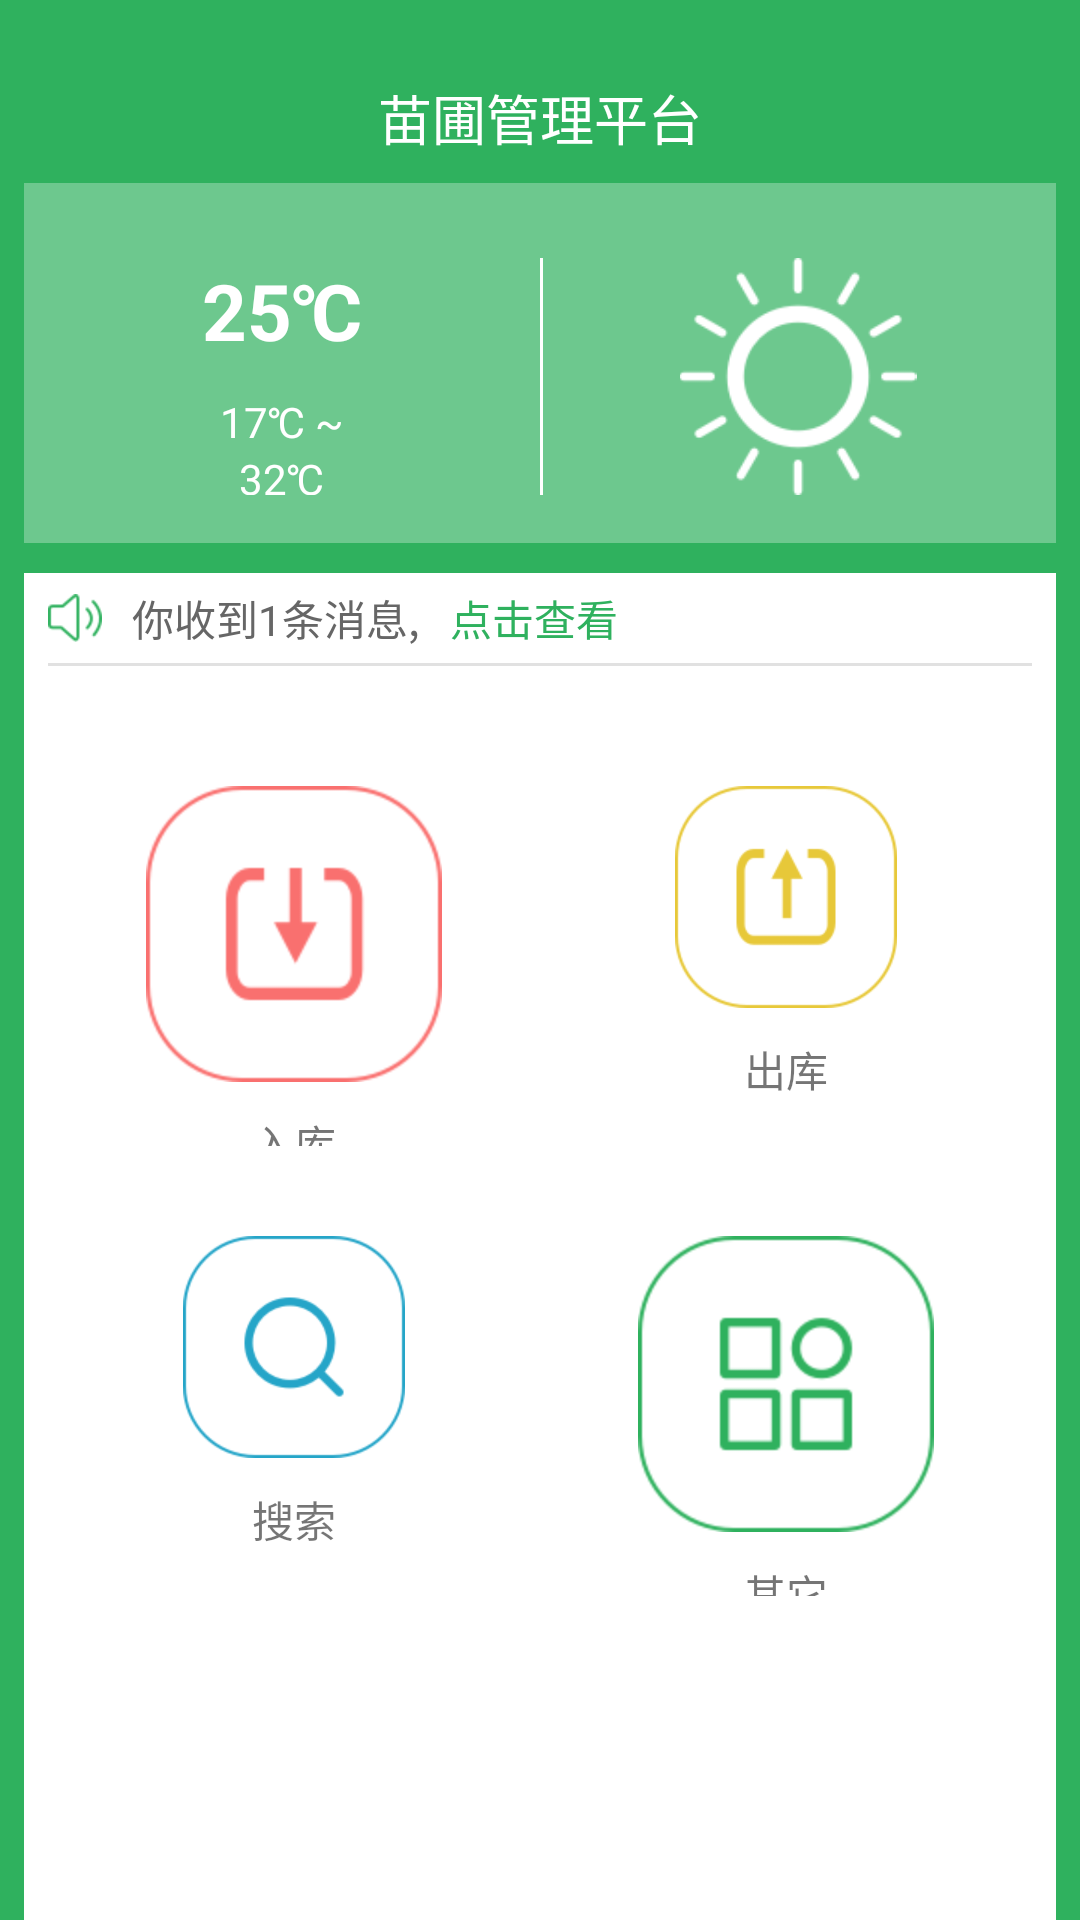

Named icons in this screenshot (1080×1920) and their bounding boxes, BBox(x1, y1, x2, y2):
notify: BBox(48, 594, 102, 642)
